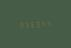four: (42, 19, 47, 27), (48, 19, 53, 27)
nine: (17, 20, 22, 28), (36, 19, 41, 27)
six: (30, 20, 35, 28)
three: (23, 20, 28, 28)
